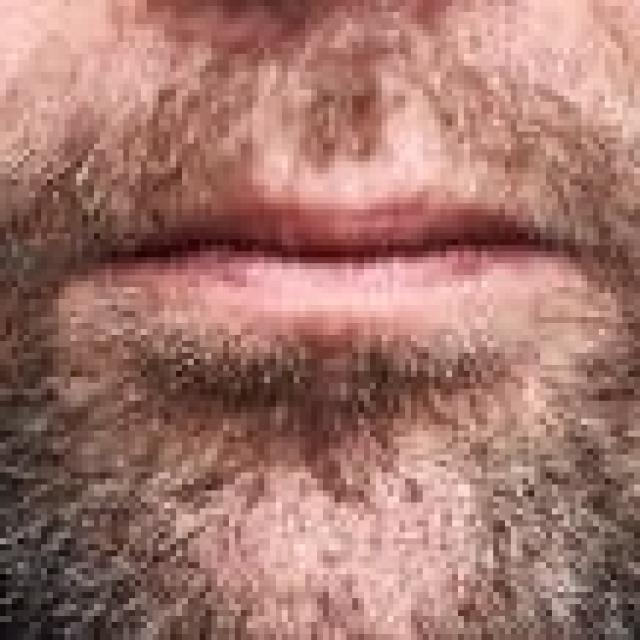closed-mouth: (88, 182, 580, 330)
